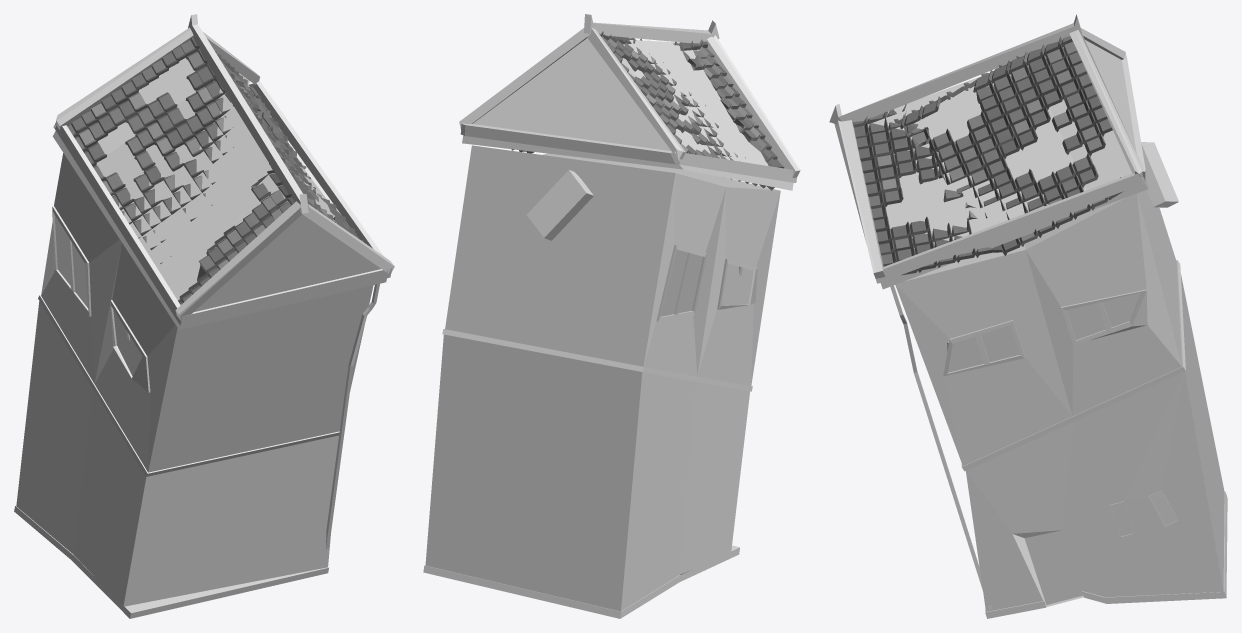
File: Casa2DestruidaVer1.fbx
3 renders of one model, left to right at view 1: azimuth 30°, elevation 25°; view 2: azimuth 150°, elevation 25°; view 3: azimuth 270°, elevation 25°, orthographic.
Parts seen in each view (by area): view 1: Casa2DestruidaVer1; view 2: Casa2DestruidaVer1; view 3: Casa2DestruidaVer1.
Part boxes in pixels (x1=…): Casa2DestruidaVer1: x1=14, y1=14, x2=394, y2=618; Casa2DestruidaVer1: x1=423, y1=14, x2=800, y2=618; Casa2DestruidaVer1: x1=829, y1=14, x2=1227, y2=618.
Size of the model in its own units: 1016 by 2427 by 1568.
